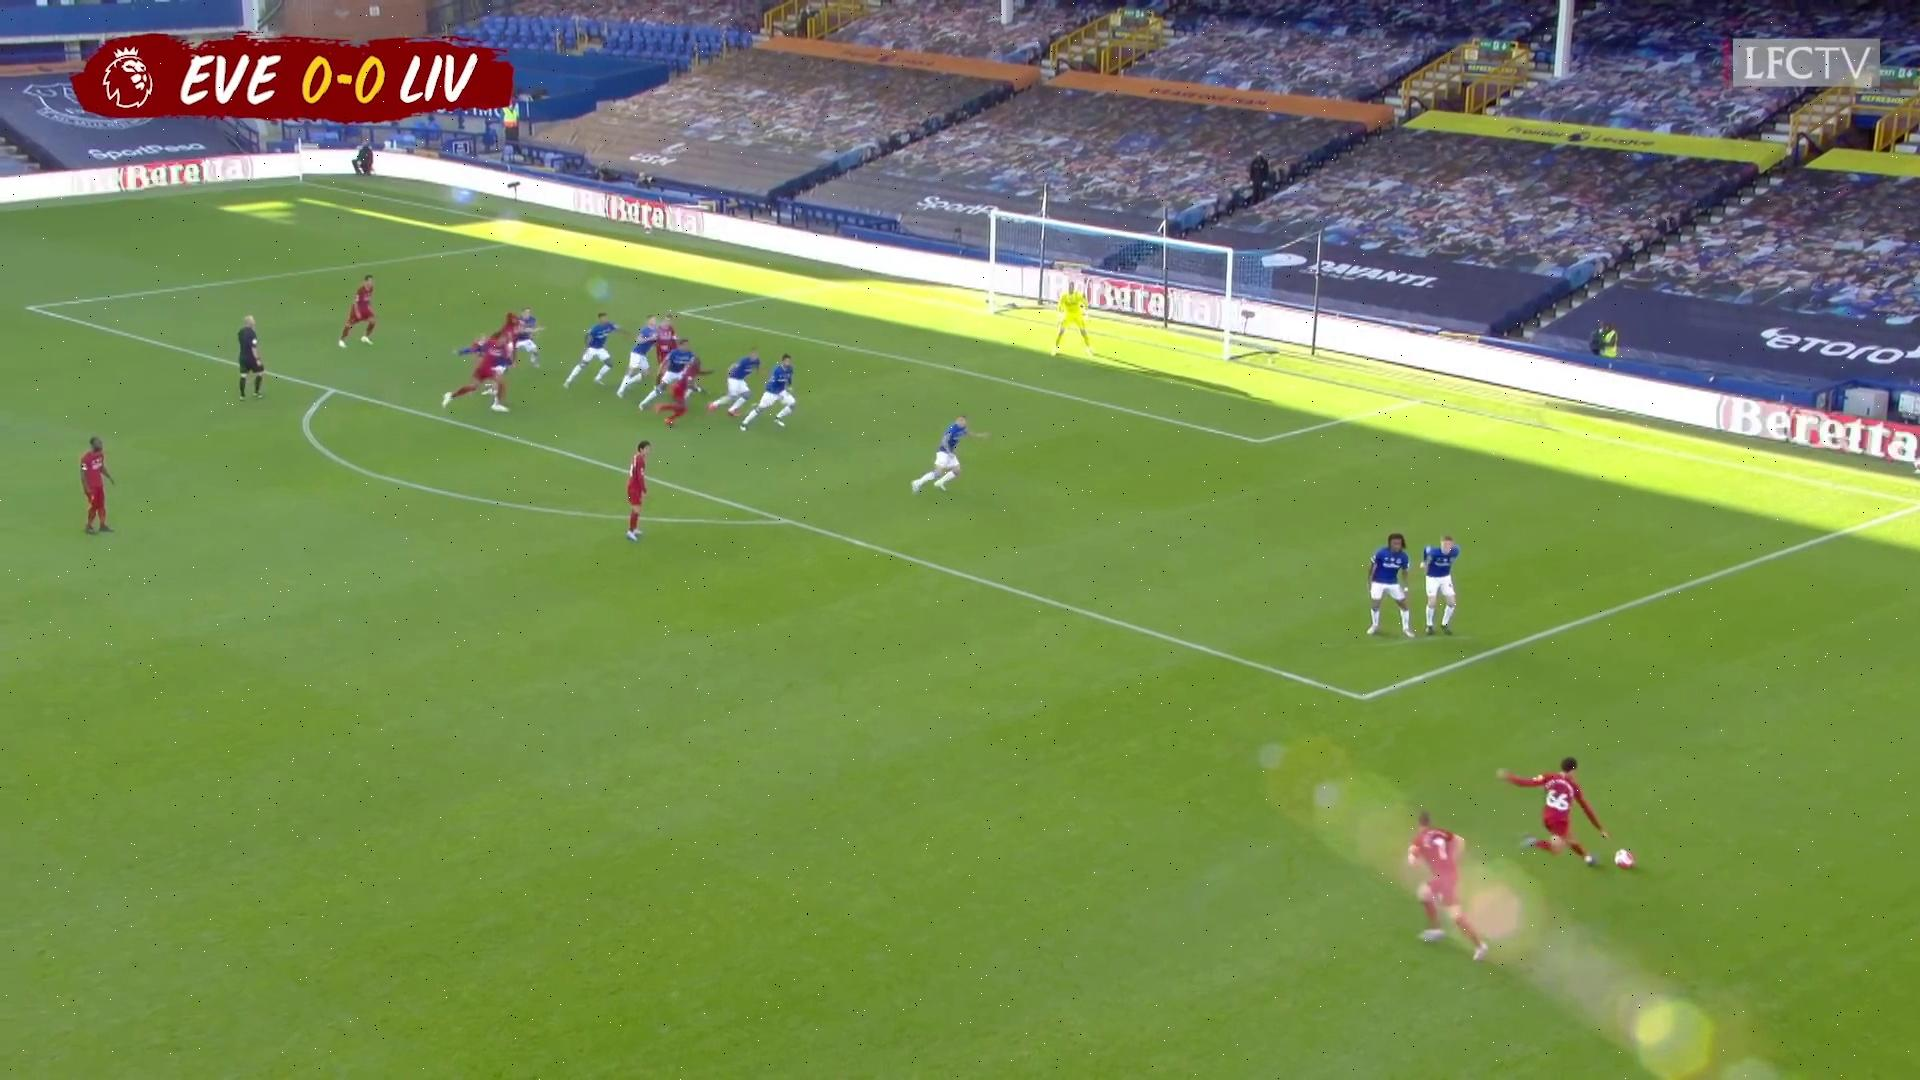ball: (1614, 847, 1634, 872)
